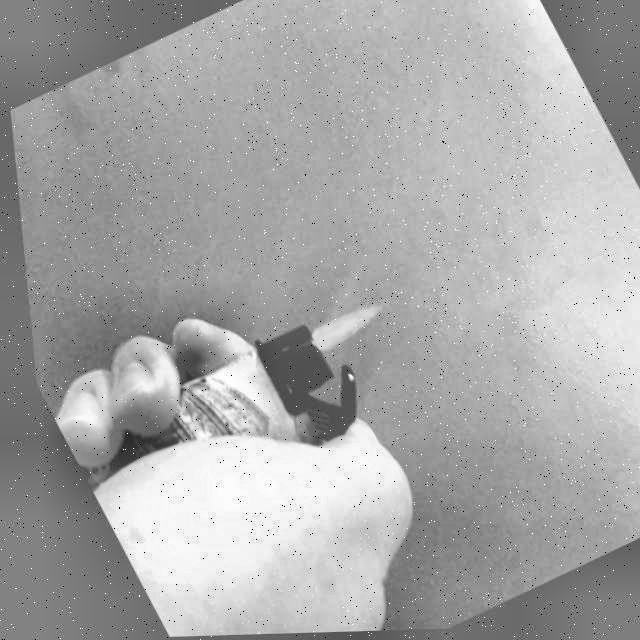Fire: (298, 297, 383, 354)
